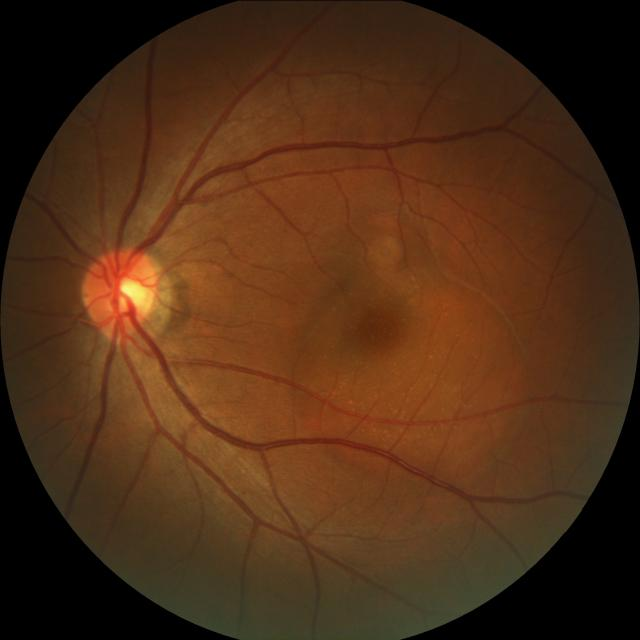OC: (110, 268, 150, 316)
OD: (82, 246, 158, 336)
